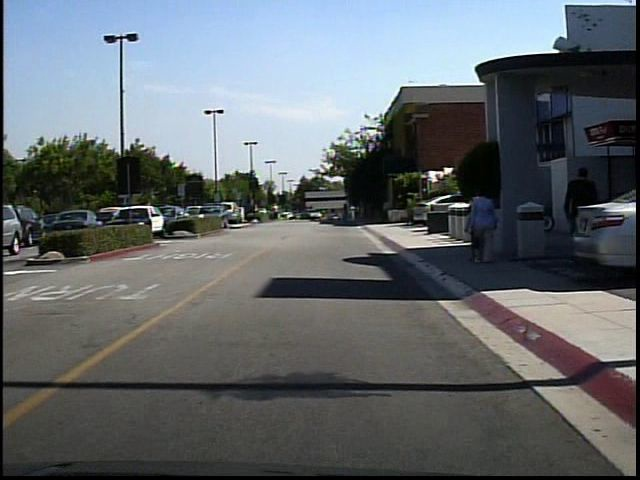person: (560, 160, 610, 278), (469, 184, 501, 267), (471, 189, 494, 264), (347, 203, 361, 227), (276, 200, 286, 224)
